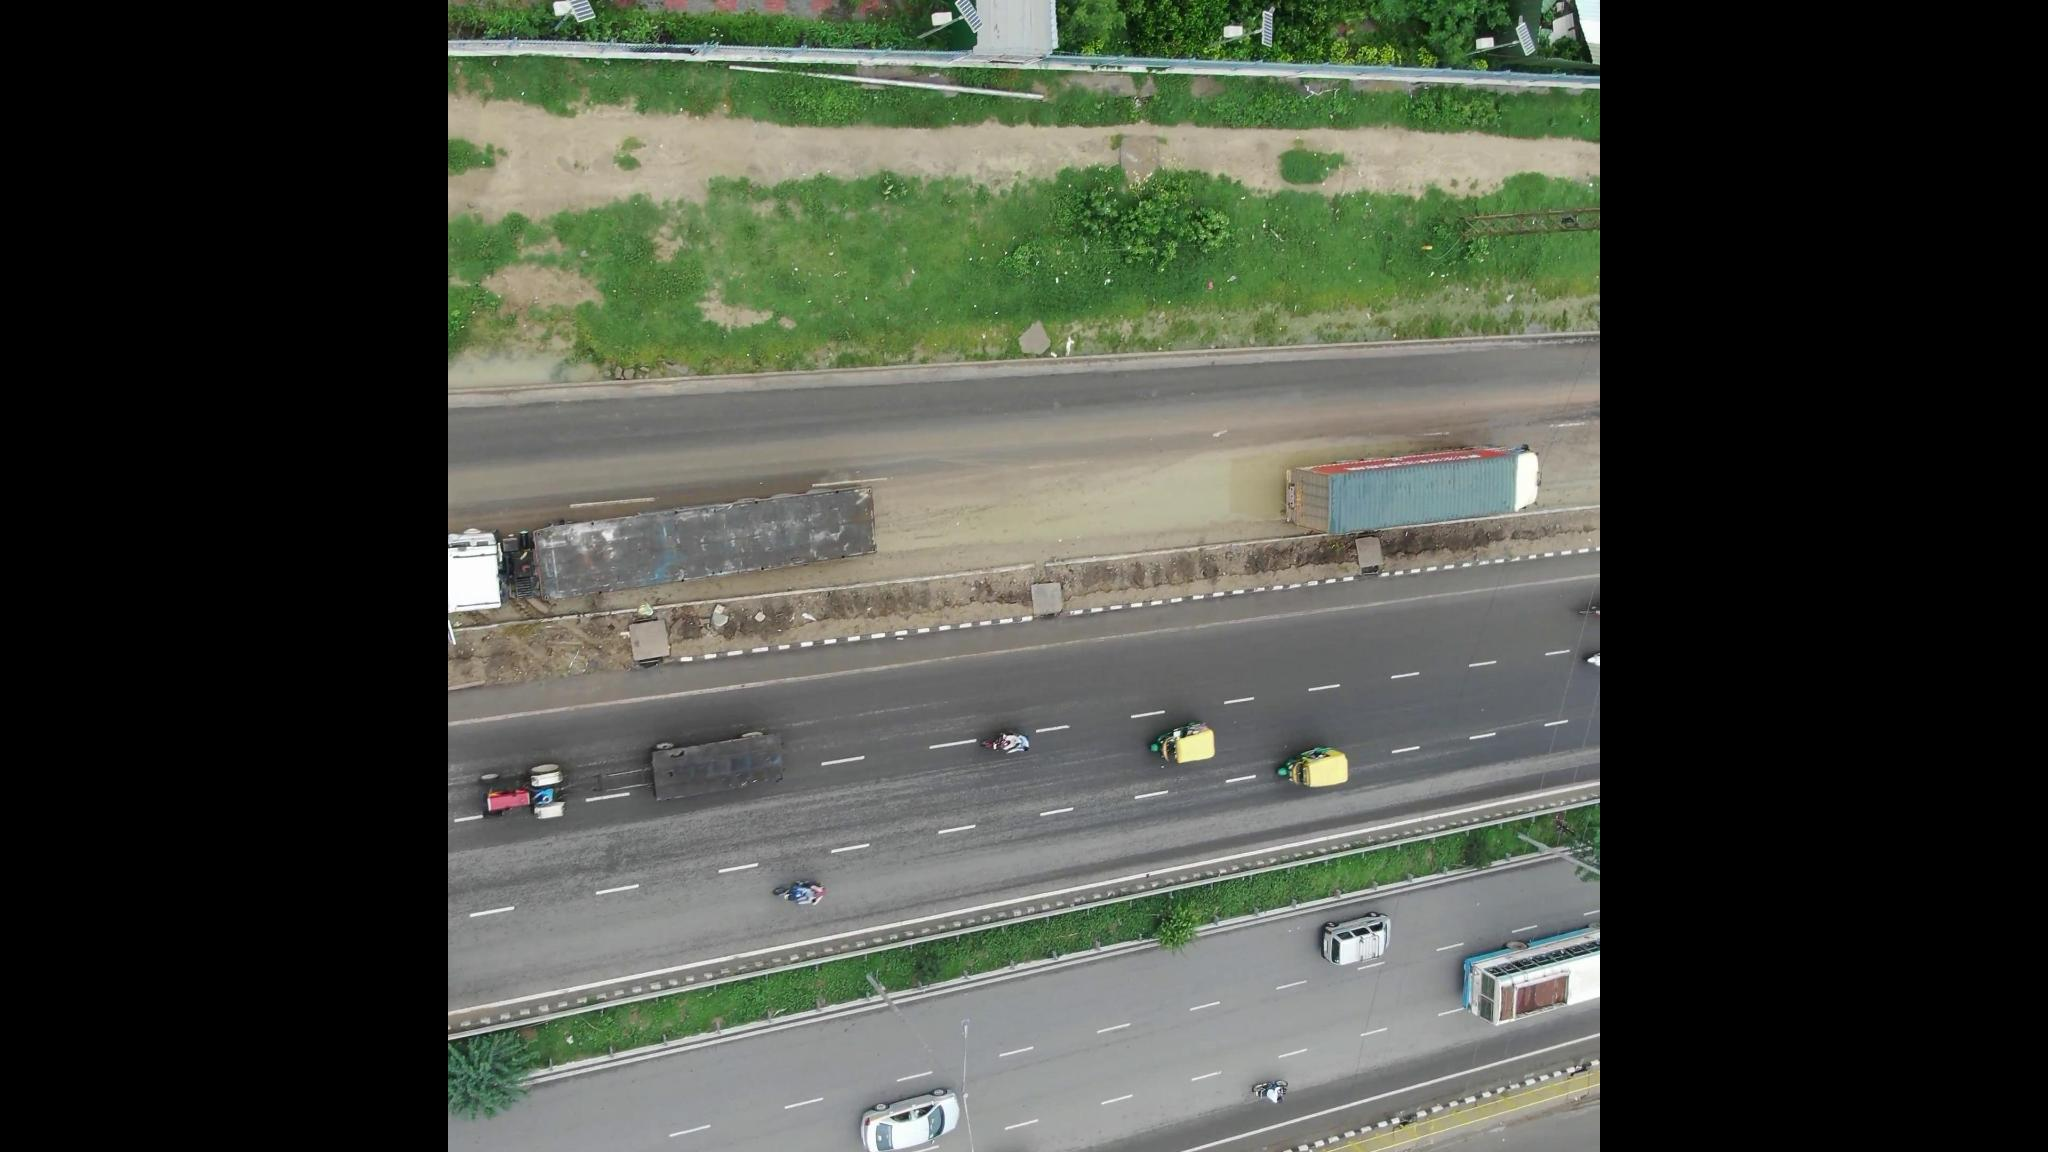Muddy_road: (903, 432, 1284, 570)
